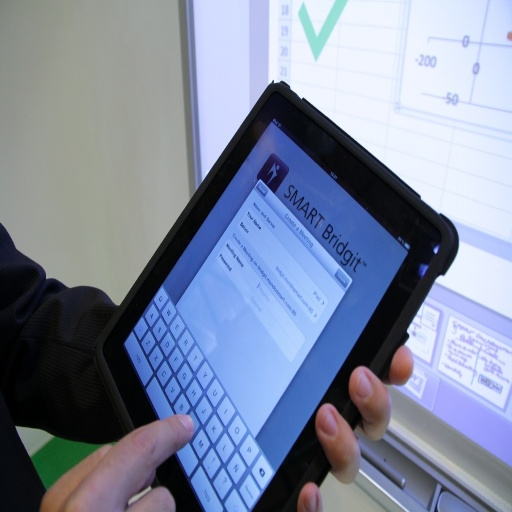hand: (295, 342, 415, 511), (39, 421, 206, 511)
